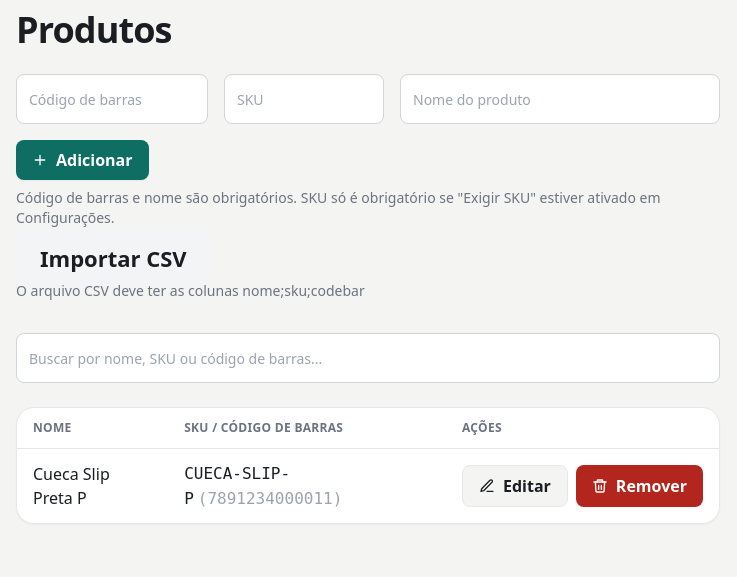
ProductsPage › shows a message pointing at Configurações when clearing the SKU on edit is not allowed
The width and height of the screenshot is (737, 577).
Expected: the text "Cueca Slip Preta P" is shown, [17,449,168,523]
Click the button "Editar" at (515, 486), box [462,465,568,507]
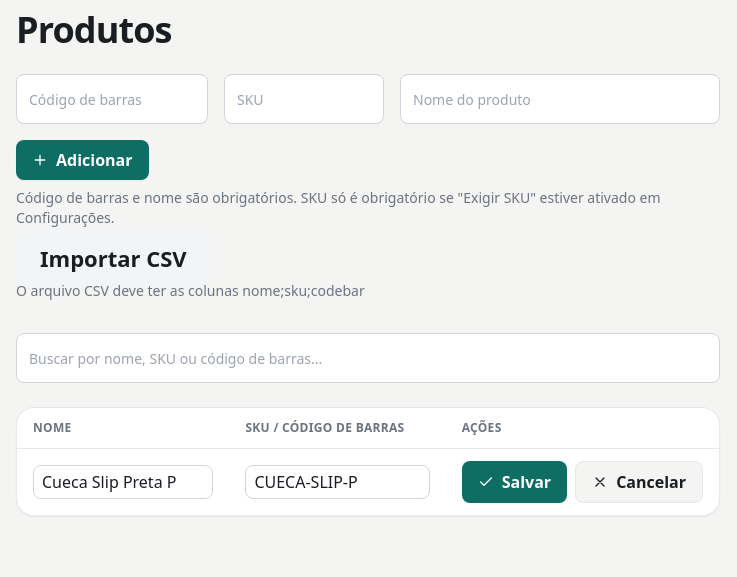
Clear the 2nd field showing "CUECA-SLIP-P" at (338, 482), box [245,465,430,499]
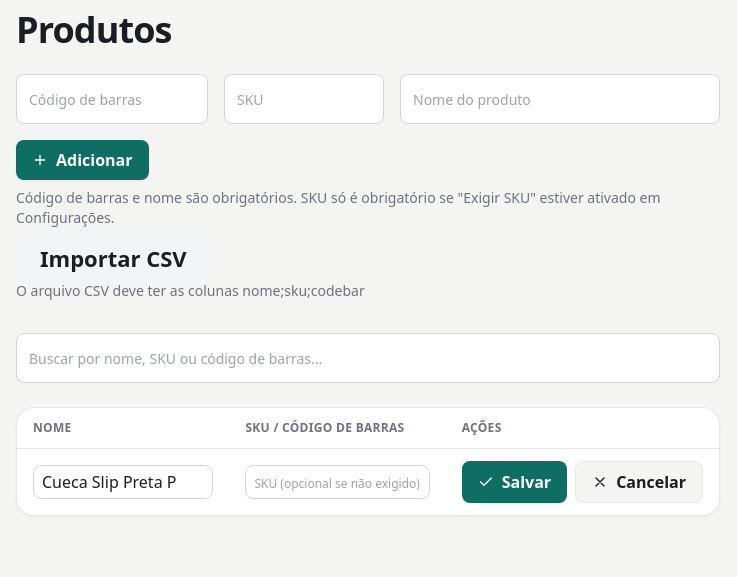
Click the button "Salvar" at (514, 482), box [462,461,567,503]
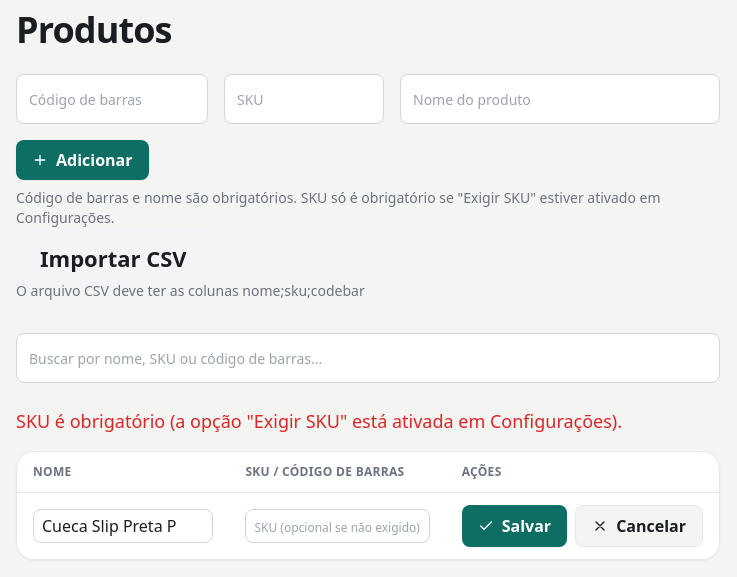
Expected: the text "SKU é obrigatório" is shown, [16,409,622,433]
